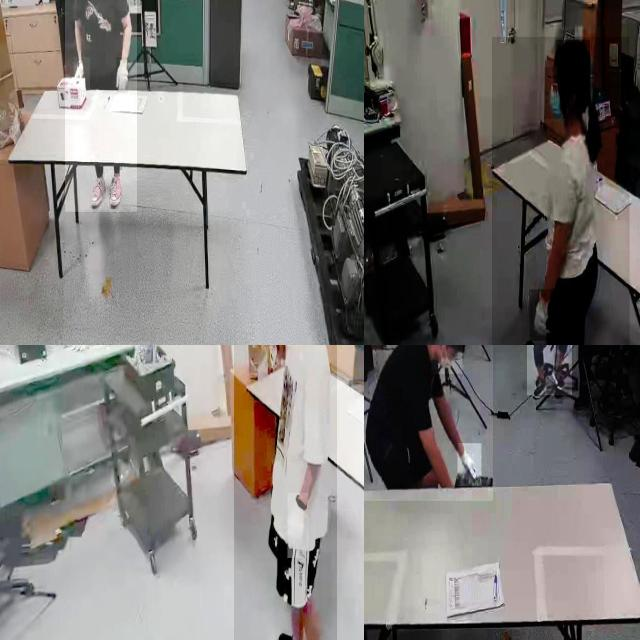face_mask: (545, 67, 567, 119), (431, 345, 462, 374)
hand_glove: (287, 493, 309, 559), (530, 289, 556, 342), (458, 443, 482, 487), (74, 57, 90, 90), (117, 57, 129, 94)
head_nohelmet: (556, 40, 590, 66)
person: (492, 37, 630, 345), (234, 345, 337, 640), (364, 345, 493, 502), (64, 0, 137, 212), (527, 345, 572, 396)
shoes: (89, 170, 106, 208), (108, 173, 124, 211), (274, 622, 305, 640), (550, 360, 566, 394), (531, 376, 551, 402)
